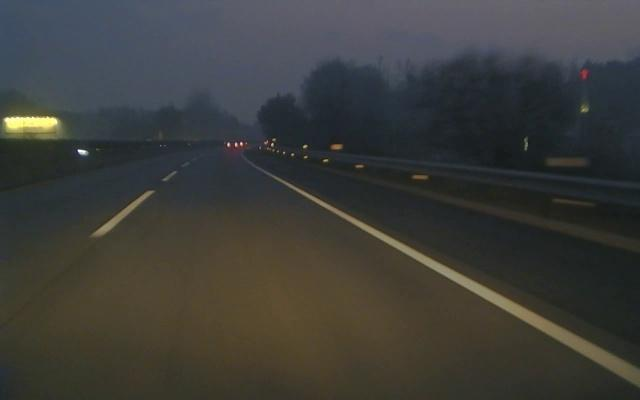lane: (250, 163, 640, 390), (88, 163, 190, 239)
